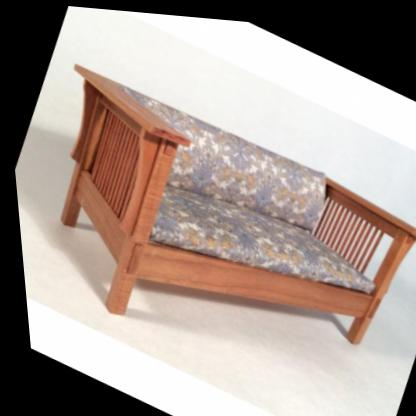Sofa: (3, 48, 416, 416)
